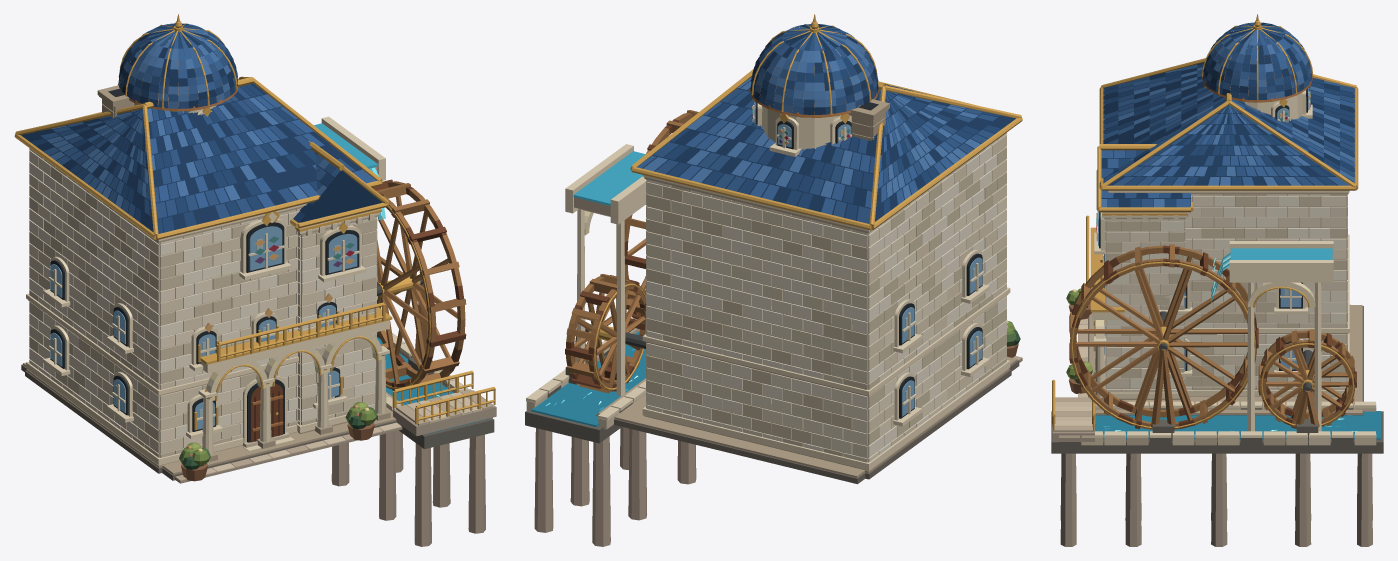
File: watermill-nivel-10.glb
The picture shows the model from 3 angles, left to right: view 1: azimuth 30°, elevation 25°; view 2: azimuth 150°, elevation 25°; view 3: azimuth 270°, elevation 25°; orthographic projection. The views are drawn at different scales.
Parts seen in each view (by area): view 1: Moinho 10 #e6d7ba, Moinho 10 #1b385b, Moinho 10 #e8dcc5, Moinho 10 #eae1ce, Moinho 10 #ded1b9, Moinho 10 #d5a452, Moinho 10 #cec1a8, Moinho 10 #ae9d8b, Aros e pás 1 #9f7145.009, Moinho 10 #2e5481, Moinho 10 #355f90, Moinho 10 #234771 (+19 smaller); view 2: Moinho 10 #e8dcc5, Moinho 10 #ded1b9, Moinho 10 #eae1ce, Moinho 10 #cec1a8, Moinho 10 #e6d7ba, Moinho 10 #1b385b, Moinho 10 #ae9d8b, Moinho 10 #4670a0, Moinho 10 #234771, Moinho 10 #d5a452, Moinho 10 #2e5481, Moinho 10 #355f90 (+11 smaller); view 3: Moinho 10 #e6d7ba, Aros e pás 1 #9f7145.009, Moinho 10 #1b385b, Moinho 10 #d5a452, Moinho 10 #ae9d8b, Moinho 10 #234771, Moinho 10 #eae1ce, Moinho 10 #ded1b9, Moinho 10 #cec1a8, Moinho 10 #2e5481, Moinho 10 #355f90, Moinho 10 #e8dcc5 (+19 smaller).
Boxes of the visible parts, x1=… form: Moinho 10 #e6d7ba: x1=26, y1=103, x2=468, y2=465; Moinho 10 #1b385b: x1=21, y1=23, x2=382, y2=232; Moinho 10 #e8dcc5: x1=29, y1=150, x2=377, y2=447; Moinho 10 #eae1ce: x1=29, y1=148, x2=377, y2=438; Moinho 10 #ded1b9: x1=29, y1=159, x2=377, y2=453; Moinho 10 #d5a452: x1=14, y1=14, x2=495, y2=430; Moinho 10 #cec1a8: x1=29, y1=165, x2=377, y2=457; Moinho 10 #ae9d8b: x1=175, y1=390, x2=496, y2=546; Aros e pás 1 #9f7145.009: x1=375, y1=181, x2=466, y2=389; Moinho 10 #2e5481: x1=58, y1=23, x2=354, y2=218; Moinho 10 #355f90: x1=40, y1=24, x2=376, y2=208; Moinho 10 #234771: x1=30, y1=23, x2=334, y2=233; Moinho 10 #e8dcc5: x1=646, y1=140, x2=1006, y2=462; Moinho 10 #ded1b9: x1=646, y1=132, x2=1006, y2=462; Moinho 10 #eae1ce: x1=646, y1=146, x2=1006, y2=457; Moinho 10 #cec1a8: x1=646, y1=147, x2=1006, y2=456; Moinho 10 #e6d7ba: x1=526, y1=103, x2=1010, y2=470; Moinho 10 #1b385b: x1=642, y1=24, x2=1015, y2=221; Moinho 10 #ae9d8b: x1=534, y1=358, x2=1022, y2=546; Moinho 10 #4670a0: x1=643, y1=24, x2=980, y2=199; Moinho 10 #234771: x1=664, y1=24, x2=1001, y2=220; Moinho 10 #d5a452: x1=630, y1=14, x2=1022, y2=230; Moinho 10 #2e5481: x1=653, y1=24, x2=997, y2=223; Moinho 10 #355f90: x1=637, y1=25, x2=966, y2=214; Moinho 10 #e6d7ba: x1=1059, y1=90, x2=1375, y2=437; Aros e pás 1 #9f7145.009: x1=1069, y1=244, x2=1256, y2=430; Moinho 10 #1b385b: x1=1101, y1=22, x2=1354, y2=207; Moinho 10 #d5a452: x1=1052, y1=14, x2=1358, y2=430; Moinho 10 #ae9d8b: x1=1052, y1=334, x2=1372, y2=546; Moinho 10 #234771: x1=1103, y1=25, x2=1354, y2=207; Moinho 10 #eae1ce: x1=1105, y1=194, x2=1347, y2=392; Moinho 10 #ded1b9: x1=1101, y1=194, x2=1347, y2=392; Moinho 10 #cec1a8: x1=1105, y1=194, x2=1347, y2=392; Moinho 10 #2e5481: x1=1101, y1=22, x2=1354, y2=207; Moinho 10 #355f90: x1=1101, y1=23, x2=1354, y2=207; Moinho 10 #e8dcc5: x1=1105, y1=194, x2=1347, y2=389.
Bounding box in the file's own units: 9.76 × 14.4 × 9.77.
